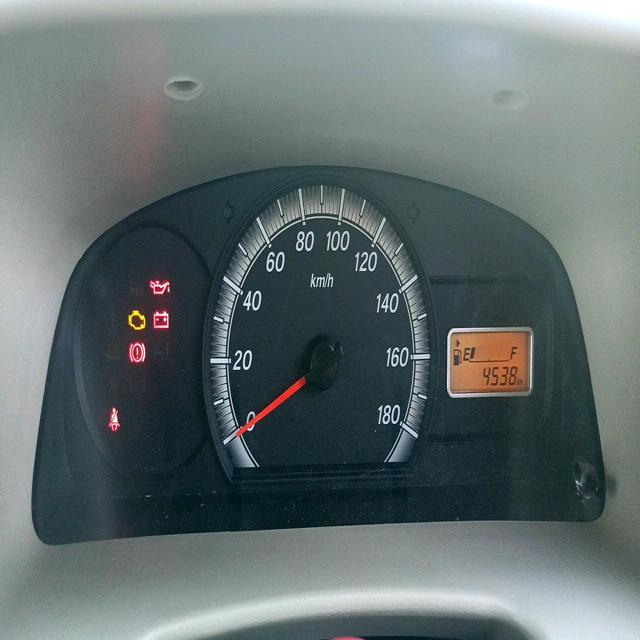odometer: (483, 363, 518, 387)
